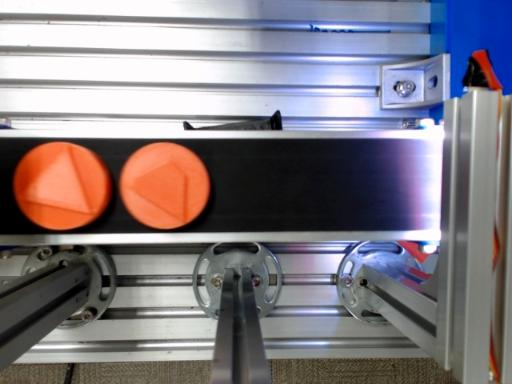Orange_Waper: (13, 142, 111, 229), (120, 142, 210, 229)
